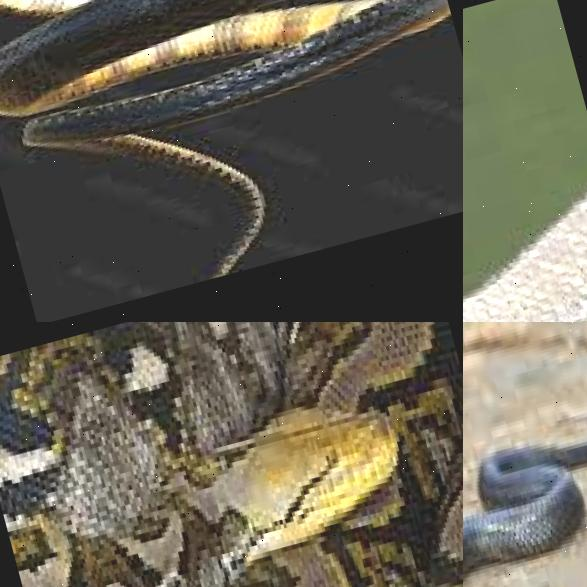snake: (0, 0, 463, 322), (0, 322, 463, 587), (463, 101, 587, 322)
